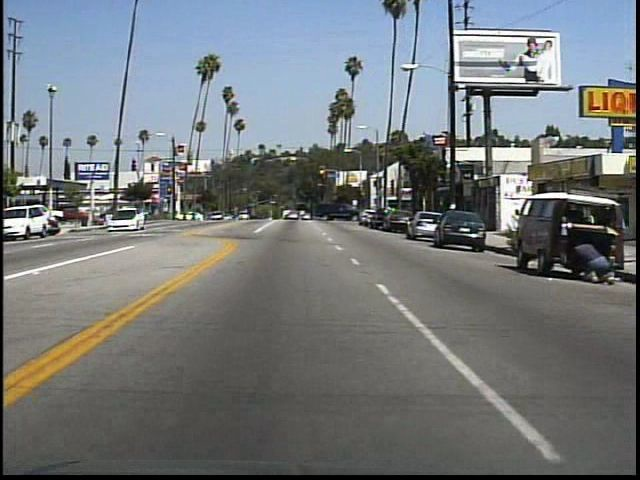person: (567, 237, 614, 288)
